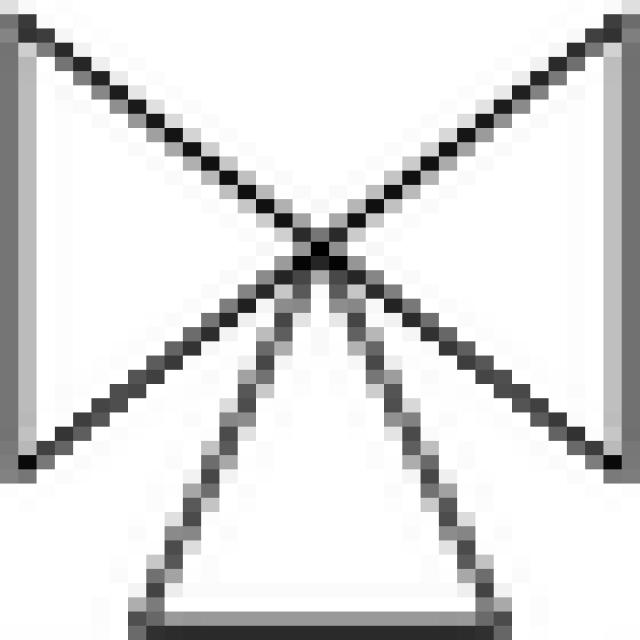3-way Valve: (26, 19, 632, 633)
